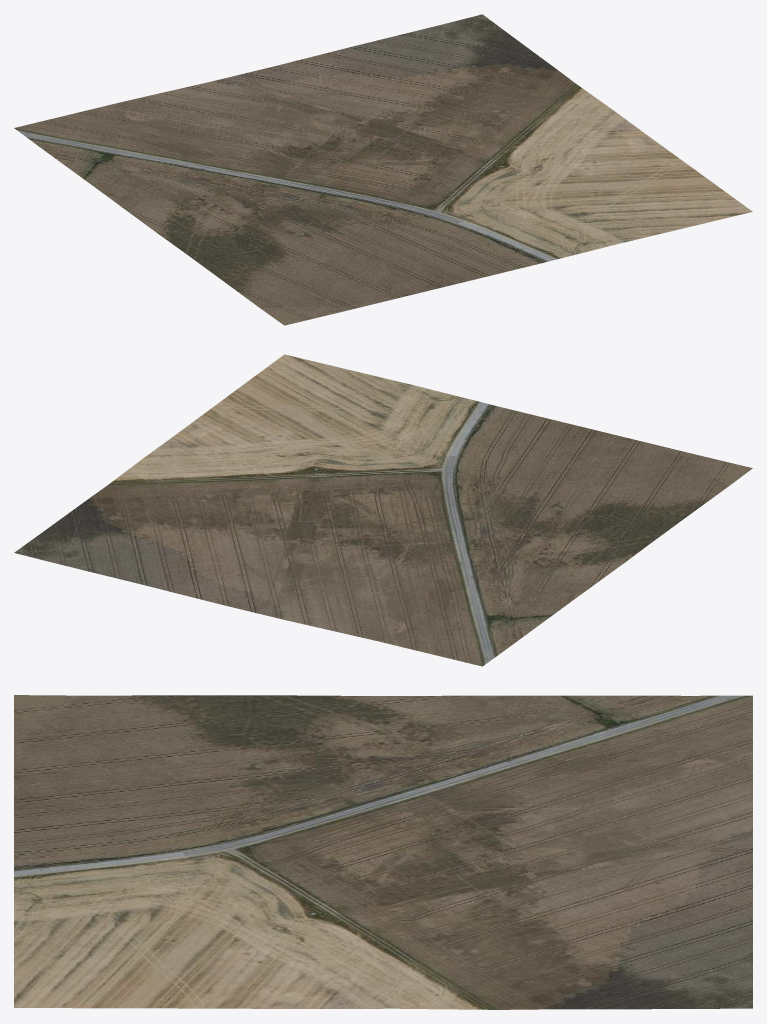
Rendered from map_13_2044_3442.dae.
3 views of the same model, one above another, from view 1: azimuth 30°, elevation 25°; view 2: azimuth 150°, elevation 25°; view 3: azimuth 270°, elevation 25° (orthographic). The views are drawn at different scales.
Parts seen in each view (by area): view 1: Ter0; view 2: Ter0; view 3: Ter0.
Boxes of the visible parts, bbox=[...] form: Ter0: bbox=[14, 14, 752, 325]; Ter0: bbox=[14, 354, 752, 666]; Ter0: bbox=[14, 695, 752, 1009].
Size of the model in its own units: 256 by 256 by 1.61.
3 materials, 3 textured.
